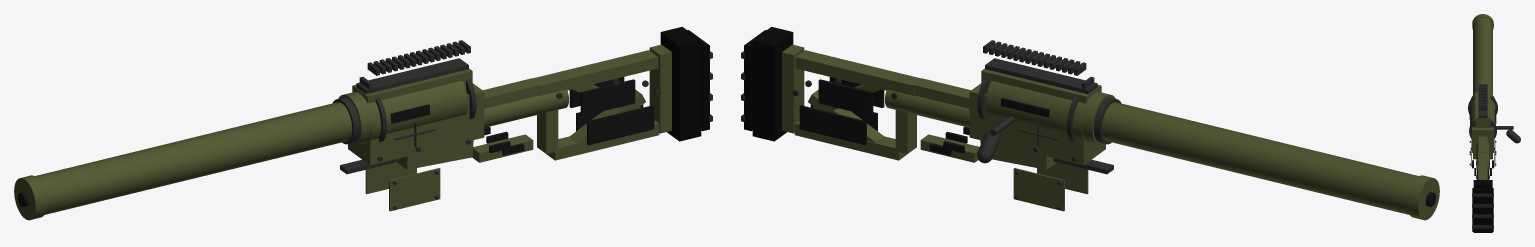
File: dvl-10-edited (1).glb
3 views of the same model, side by side, from view 1: azimuth 30°, elevation 25°; view 2: azimuth 150°, elevation 25°; view 3: azimuth 270°, elevation 25° (orthographic). The views are drawn at different scales.
Parts seen in each view (by area): view 1: long cylindrical suppressor, angular receiver main block, black rubber buttpad, receiver rear collar, receiver side rectangular panel (×2), stock top beam, picatinny rail base (×2), stock lower opening shade front, stock rear vertical brace, rear buffer tube, stock upper opening shade front, receiver upper block (+10 smaller); view 2: long cylindrical suppressor, black rubber buttpad, receiver rear collar, angular receiver main block, receiver side rectangular panel (×2), stock top beam, picatinny rail base (×2), stock lower opening shade back, stock rear vertical brace, rear buffer tube, stock upper opening shade back, receiver upper block (+11 smaller); view 3: long cylindrical suppressor, buttpad rear rounded block, angular receiver main block, receiver upper block, buttpad groove (×4), stock top beam, receiver rear collar, black rubber buttpad, thin stock connector upper, rear buffer tube, single bolt handle knob, receiver rear metal ring detail (+7 smaller).
Part boxes in pixels (left/top/right/bottom): long cylindrical suppressor: left=15, top=102, right=352, bottom=218; angular receiver main block: left=348, top=83, right=484, bottom=165; black rubber buttpad: left=660, top=26, right=701, bottom=141; receiver rear collar: left=338, top=80, right=467, bottom=145; receiver side rectangular panel (×2): left=365, top=162, right=440, bottom=211; stock top beam: left=533, top=50, right=658, bottom=95; picatinny rail base (×2): left=340, top=58, right=468, bottom=174; stock lower opening shade front: left=587, top=105, right=654, bottom=145; stock rear vertical brace: left=649, top=44, right=671, bottom=133; rear buffer tube: left=484, top=89, right=568, bottom=127; stock upper opening shade front: left=580, top=79, right=635, bottom=116; receiver upper block: left=352, top=68, right=472, bottom=103; long cylindrical suppressor: left=1101, top=102, right=1438, bottom=218; black rubber buttpad: left=752, top=26, right=793, bottom=141; receiver rear collar: left=986, top=80, right=1115, bottom=145; angular receiver main block: left=969, top=83, right=1105, bottom=165; receiver side rectangular panel (×2): left=1013, top=162, right=1088, bottom=211; stock top beam: left=795, top=50, right=920, bottom=95; picatinny rail base (×2): left=985, top=58, right=1113, bottom=174; stock lower opening shade back: left=799, top=105, right=866, bottom=145; stock rear vertical brace: left=782, top=44, right=804, bottom=133; rear buffer tube: left=885, top=89, right=969, bottom=127; stock upper opening shade back: left=818, top=79, right=873, bottom=116; receiver upper block: left=981, top=68, right=1101, bottom=103; long cylindrical suppressor: left=1473, top=17, right=1492, bottom=94; buttpad rear rounded block: left=1472, top=188, right=1493, bottom=231; angular receiver main block: left=1472, top=127, right=1493, bottom=152; receiver upper block: left=1475, top=92, right=1490, bottom=127; buttpad groove (×4): left=1472, top=193, right=1493, bottom=228; stock top beam: left=1478, top=152, right=1487, bottom=179; receiver rear collar: left=1470, top=92, right=1495, bottom=125; black rubber buttpad: left=1473, top=180, right=1492, bottom=232; thin stock connector upper: left=1478, top=136, right=1487, bottom=152; rear buffer tube: left=1476, top=142, right=1489, bottom=170; single bolt handle knob: left=1506, top=129, right=1520, bottom=143; receiver rear metal ring detail: left=1469, top=120, right=1496, bottom=138.
Bounding box in the file's own units: 7.45 × 1.47 × 1.
